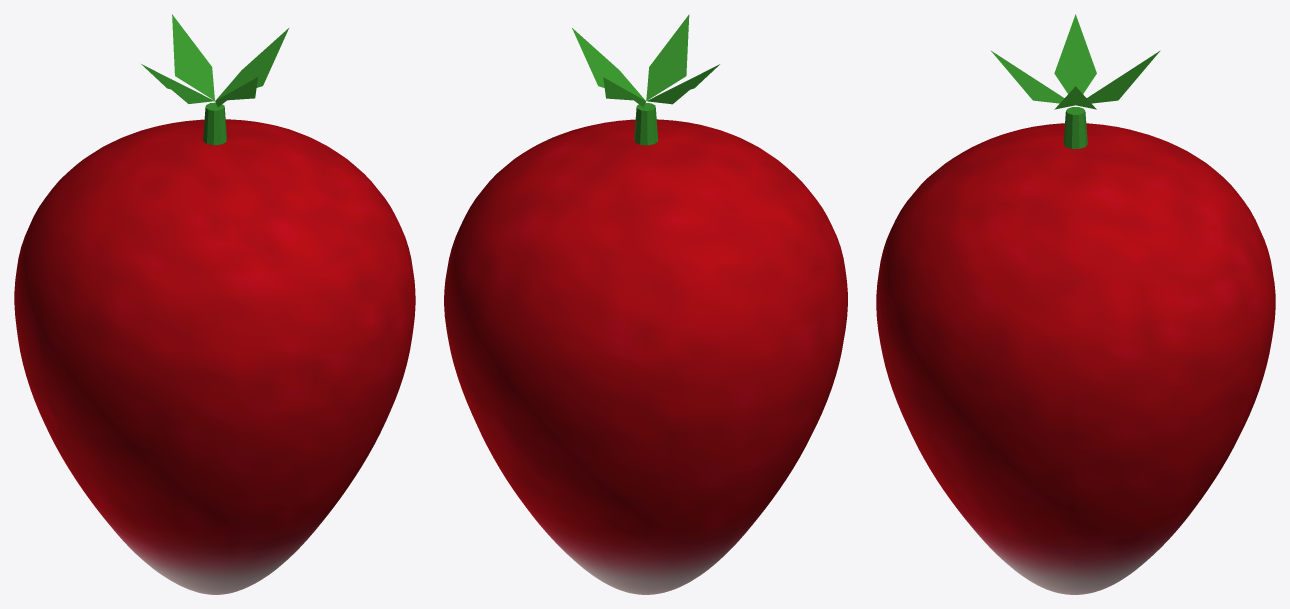
Rendered from radis.glb.
3 renders of one model, left to right at view 1: azimuth 30°, elevation 25°; view 2: azimuth 150°, elevation 25°; view 3: azimuth 270°, elevation 25°, orthographic.
Parts seen in each view (by area): view 1: entier_peau, moitie_B_peau, entier_extra0, moitie_A_peau; view 2: entier_peau, moitie_A_peau, entier_extra0, moitie_B_peau; view 3: entier_peau, moitie_A_peau, moitie_B_peau, entier_extra0.
Part boxes in pixels (x1,y1,x2,y2): entier_peau: [14, 119, 415, 594]; moitie_B_peau: [40, 136, 415, 594]; entier_extra0: [141, 14, 288, 145]; moitie_A_peau: [14, 120, 313, 530]; entier_peau: [444, 119, 847, 594]; moitie_A_peau: [445, 136, 819, 594]; entier_extra0: [572, 14, 719, 145]; moitie_B_peau: [532, 119, 847, 544]; entier_peau: [876, 123, 1275, 594]; moitie_A_peau: [1075, 130, 1275, 594]; moitie_B_peau: [878, 123, 1075, 594]; entier_extra0: [991, 14, 1160, 148].
Size of the model in its own units: 1.31 by 1.95 by 1.31.
